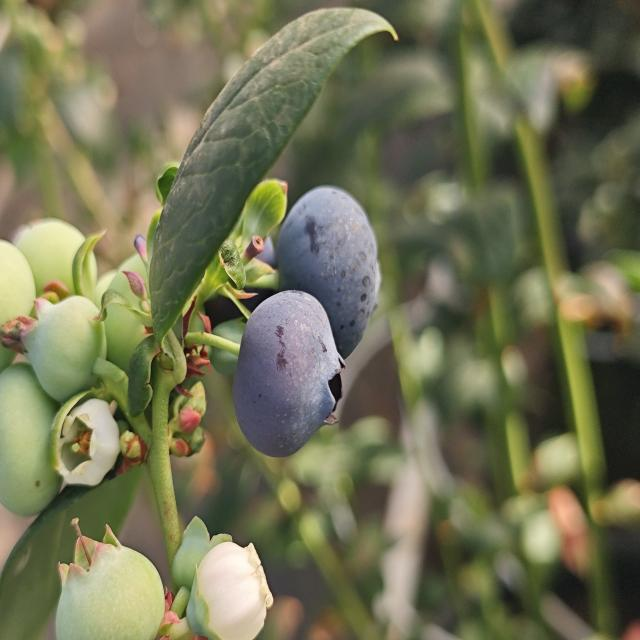ripe: (278, 180, 388, 364), (231, 285, 343, 460), (193, 203, 282, 323)
